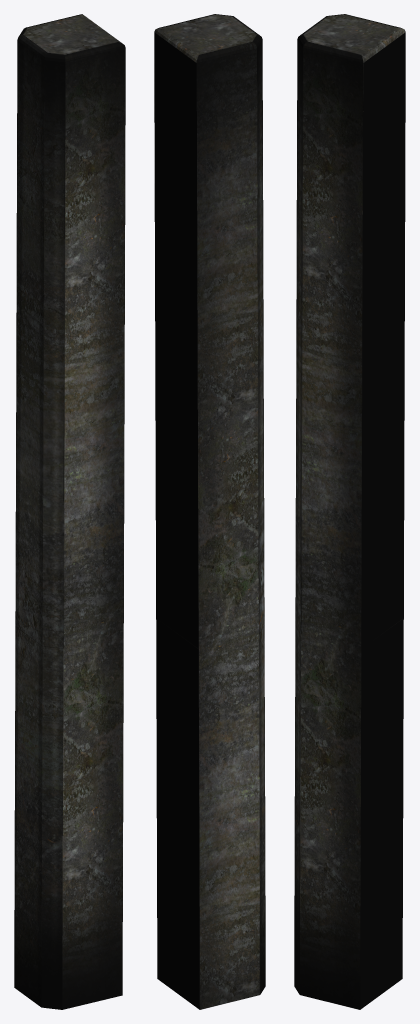
The model's file is giant pillar b.fbx.
The picture shows the model from 3 angles, left to right: view 1: azimuth 30°, elevation 25°; view 2: azimuth 210°, elevation 25°; view 3: azimuth 330°, elevation 25°; orthographic projection.
Visible parts, largest first — view 1: Cube.107; view 2: Cube.107; view 3: Cube.107.
Boxes of the visible parts, x1,y1,x2,y2 form: Cube.107: (14, 14, 125, 1009); Cube.107: (154, 14, 265, 1009); Cube.107: (294, 14, 405, 1009).
Size of the model in its own units: 1004 by 11909 by 962.
